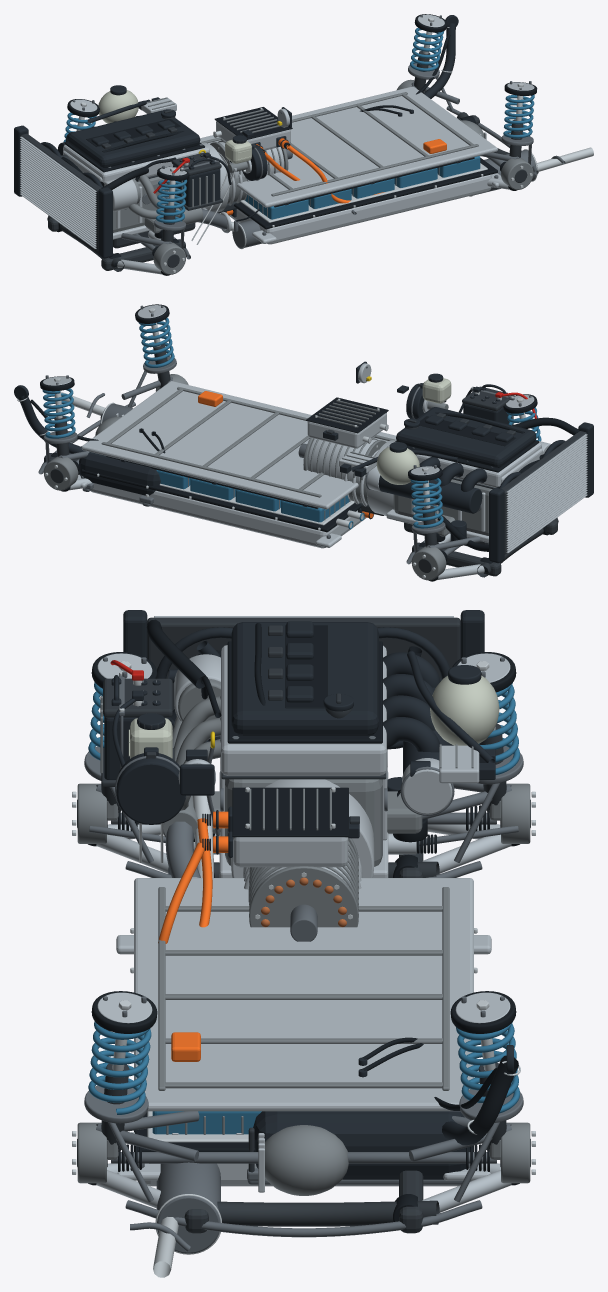
Rendered from mechanical-supplement.glb.
3 renders of one model, top to bottom at view 1: azimuth 30°, elevation 25°; view 2: azimuth 150°, elevation 25°; view 3: azimuth 270°, elevation 25°, orthographic. The views are drawn at different scales.
Parts seen in each view (by area): view 1: battery-cover__mechanical_aluminum, radiator__mechanical_aluminum, battery-tray__mechanical_aluminum, engine-cam-cover__mechanical_plastic, battery-cover__mechanical_cast, radiator__mechanical_plastic, battery-tray__mechanical_rubber, battery-12v__mechanical_plastic, engine-cam-cover__mechanical_rubber, traction-inverter__mechanical_rubber, engine-head__mechanical_aluminum, front-subframe__mechanical_darksteel (+34 smaller); view 2: battery-cover__mechanical_aluminum, radiator__mechanical_aluminum, battery-tray__mechanical_aluminum, engine-cam-cover__mechanical_plastic, fuel-tank__mechanical_plastic, battery-cover__mechanical_cast, engine-intake-manifold__mechanical_plastic, radiator__mechanical_plastic, battery-tray__mechanical_rubber, traction-inverter__mechanical_rubber, engine-block__mechanical_cast, coolant-reservoir__mechanical_ivory (+30 smaller); view 3: battery-cover__mechanical_aluminum, engine-cam-cover__mechanical_plastic, battery-cover__mechanical_cast, fuel-tank__mechanical_plastic, engine-head__mechanical_aluminum, rear-subframe__mechanical_darksteel, electric-motor__mechanical_cast, traction-inverter__mechanical_rubber, radiator__mechanical_darksteel, rear-differential__mechanical_cast, engine-intake-manifold__mechanical_plastic, radiator__mechanical_plastic (+53 smaller).
Boxes of the visible parts, x1=… form: battery-cover__mechanical_aluminum: x1=200, y1=86, x2=497, y2=207; radiator__mechanical_aluminum: x1=20, y1=136, x2=96, y2=248; battery-tray__mechanical_aluminum: x1=229, y1=173, x2=501, y2=244; engine-cam-cover__mechanical_plastic: x1=67, y1=110, x2=200, y2=167; battery-cover__mechanical_cast: x1=201, y1=92, x2=478, y2=196; radiator__mechanical_plastic: x1=14, y1=125, x2=112, y2=258; battery-tray__mechanical_rubber: x1=234, y1=158, x2=497, y2=229; battery-12v__mechanical_plastic: x1=173, y1=152, x2=231, y2=206; engine-cam-cover__mechanical_rubber: x1=65, y1=119, x2=204, y2=172; traction-inverter__mechanical_rubber: x1=214, y1=107, x2=292, y2=152; engine-head__mechanical_aluminum: x1=63, y1=142, x2=209, y2=181; front-subframe__mechanical_darksteel: x1=47, y1=215, x2=185, y2=271; battery-cover__mechanical_aluminum: x1=81, y1=381, x2=396, y2=509; radiator__mechanical_aluminum: x1=506, y1=434, x2=587, y2=553; battery-tray__mechanical_aluminum: x1=77, y1=474, x2=366, y2=548; engine-cam-cover__mechanical_plastic: x1=396, y1=407, x2=536, y2=467; fuel-tank__mechanical_plastic: x1=14, y1=385, x2=160, y2=495; battery-cover__mechanical_cast: x1=101, y1=387, x2=395, y2=497; engine-intake-manifold__mechanical_plastic: x1=378, y1=455, x2=487, y2=513; radiator__mechanical_plastic: x1=489, y1=422, x2=593, y2=563; battery-tray__mechanical_rubber: x1=81, y1=469, x2=361, y2=532; traction-inverter__mechanical_rubber: x1=306, y1=397, x2=388, y2=433; engine-block__mechanical_cast: x1=393, y1=479, x2=492, y2=535; coolant-reservoir__mechanical_ivory: x1=376, y1=447, x2=419, y2=484; battery-cover__mechanical_aluminum: x1=134, y1=878, x2=473, y2=1111; engine-cam-cover__mechanical_plastic: x1=231, y1=622, x2=378, y2=735; battery-cover__mechanical_cast: x1=158, y1=887, x2=449, y2=1090; fuel-tank__mechanical_plastic: x1=253, y1=1045, x2=518, y2=1179; engine-head__mechanical_aluminum: x1=221, y1=645, x2=386, y2=775; rear-subframe__mechanical_darksteel: x1=184, y1=1170, x2=439, y2=1233; electric-motor__mechanical_cast: x1=249, y1=838, x2=358, y2=927; traction-inverter__mechanical_rubber: x1=202, y1=787, x2=348, y2=850; radiator__mechanical_darksteel: x1=147, y1=617, x2=460, y2=710; rear-differential__mechanical_cast: x1=265, y1=1125, x2=348, y2=1195; engine-intake-manifold__mechanical_plastic: x1=383, y1=652, x2=451, y2=774; radiator__mechanical_plastic: x1=123, y1=610, x2=484, y2=749.
Size of the model in its own units: 4.31 by 1.06 by 1.73.
